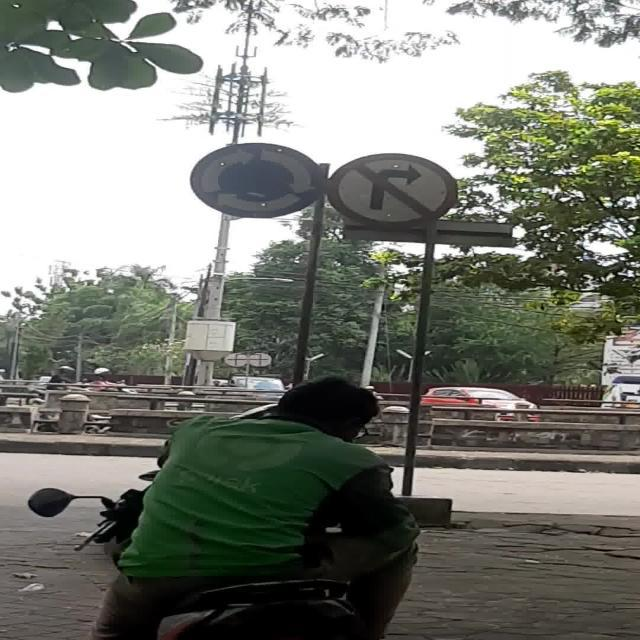Dilarang Belok Kanan: (328, 152, 458, 225)
